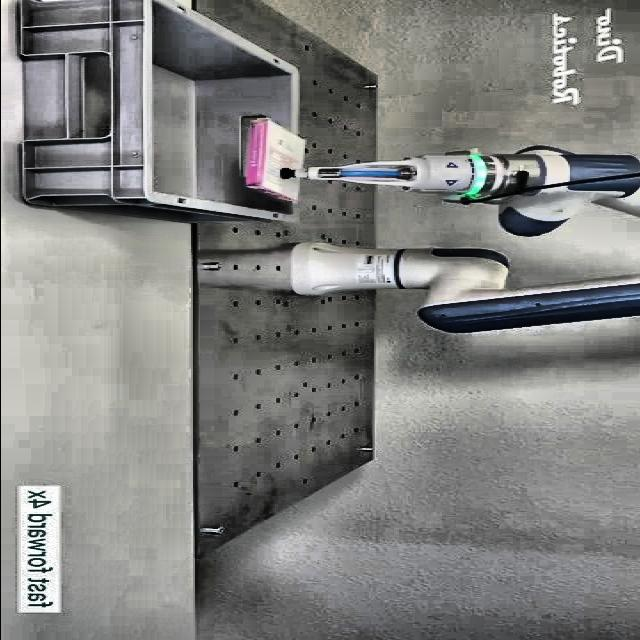robot: (278, 144, 640, 334)
